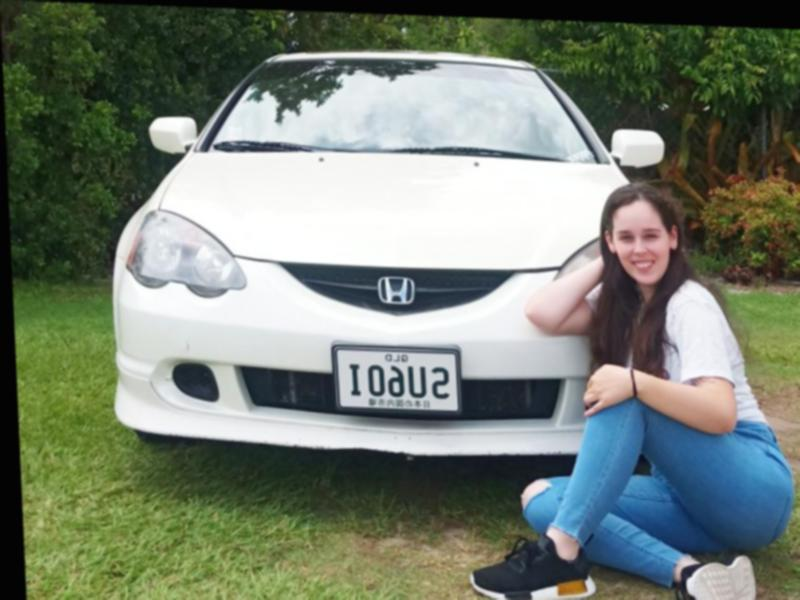License_Plate: (331, 342, 464, 418)
